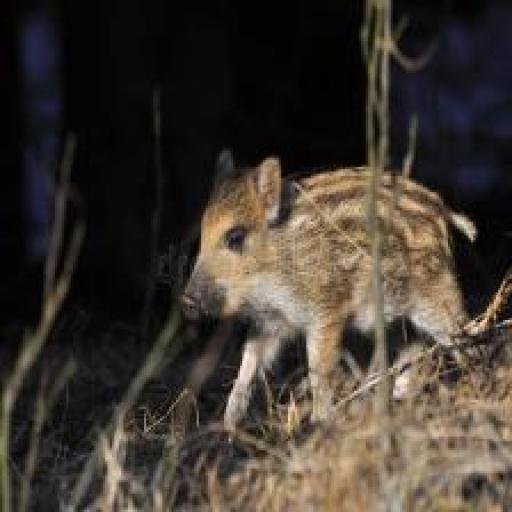Pig: (180, 148, 476, 428)
